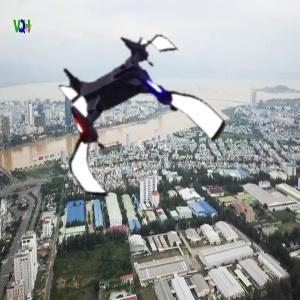drone: (40, 30, 216, 206)
